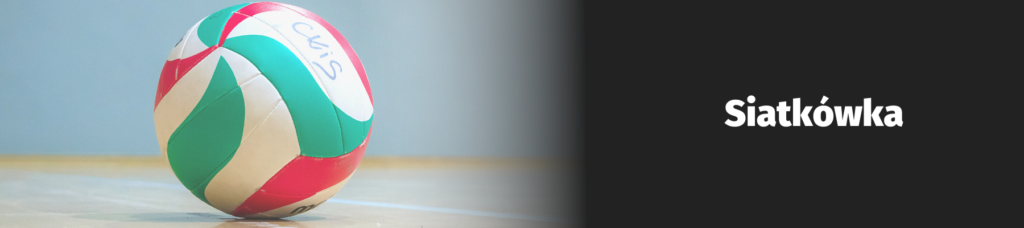ball: (153, 1, 375, 220)
